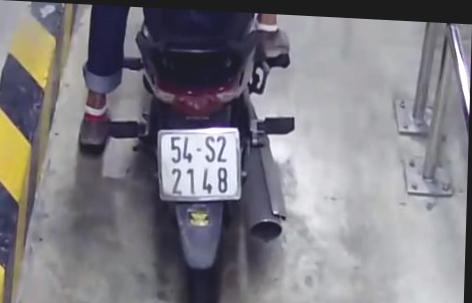License_Plate: (145, 121, 251, 214)
